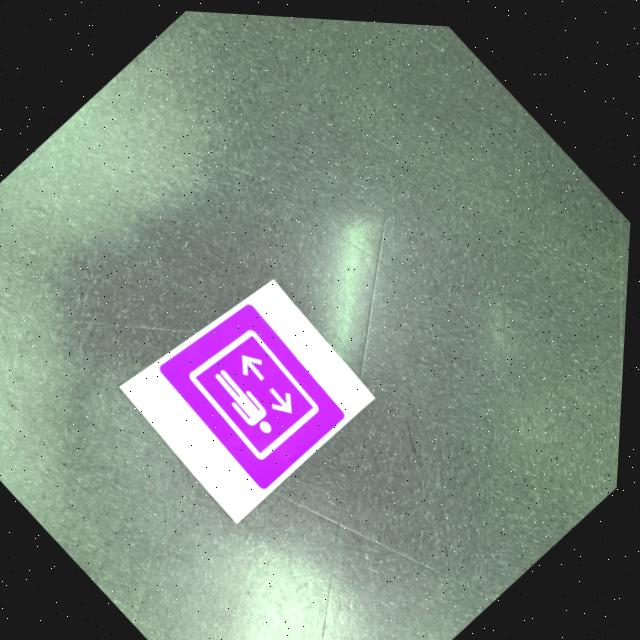elevator: (151, 289, 352, 489)
